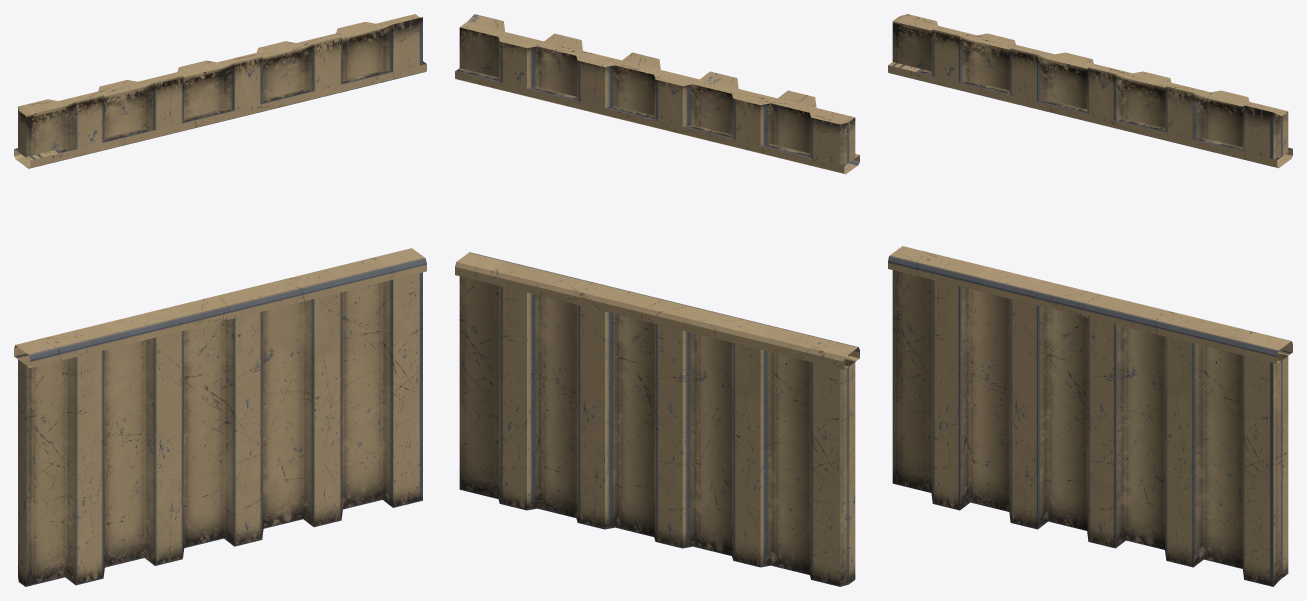
File: CnWallWindowA1B.fbx
The picture shows the model from 3 angles, left to right: view 1: azimuth 30°, elevation 25°; view 2: azimuth 150°, elevation 25°; view 3: azimuth 330°, elevation 25°; orthographic projection.
Parts seen in each view (by area): view 1: CnWallWindowA1B; view 2: CnWallWindowA1B; view 3: CnWallWindowA1B.
Boxes of the visible parts, x1,y1,x2,y2 form: CnWallWindowA1B: [14, 14, 426, 586]; CnWallWindowA1B: [455, 14, 859, 586]; CnWallWindowA1B: [888, 14, 1292, 586].
Bounding box in the file's own units: 200 × 233 × 14.
